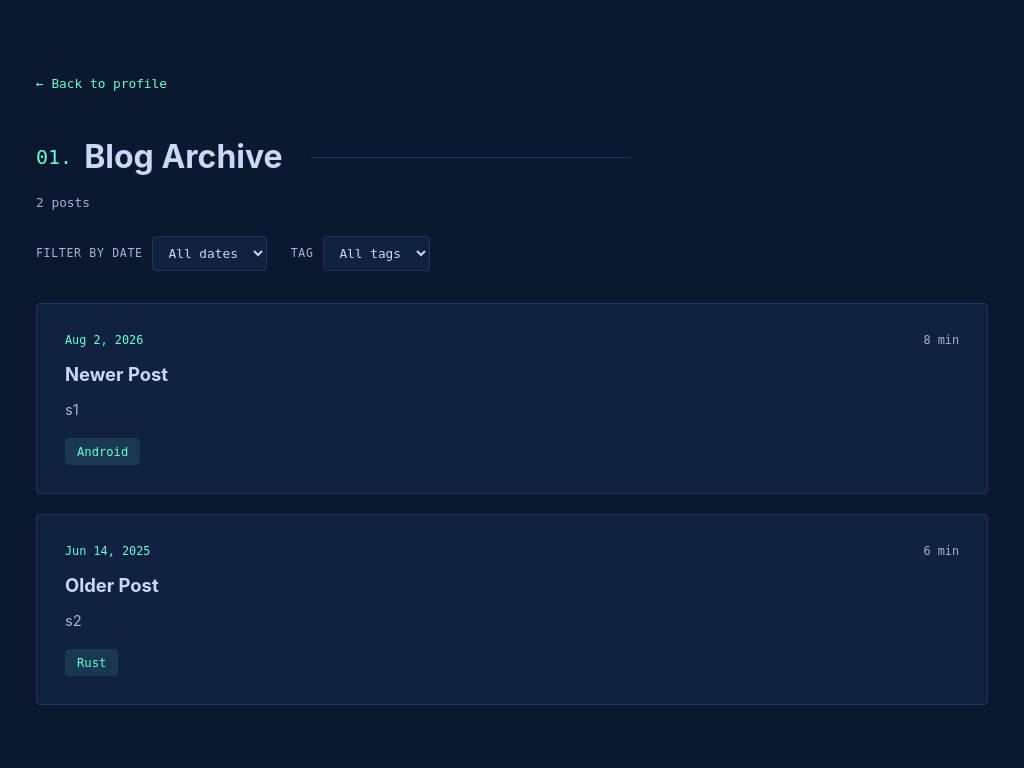
Test: Blogs reader view › opens a post, lazy-fetches its html and renders it
What coordinates should you click on to do the following:
click the heading "Newer Post"
I would click on:
 (116, 374)
Its box is [65,363,168,385].
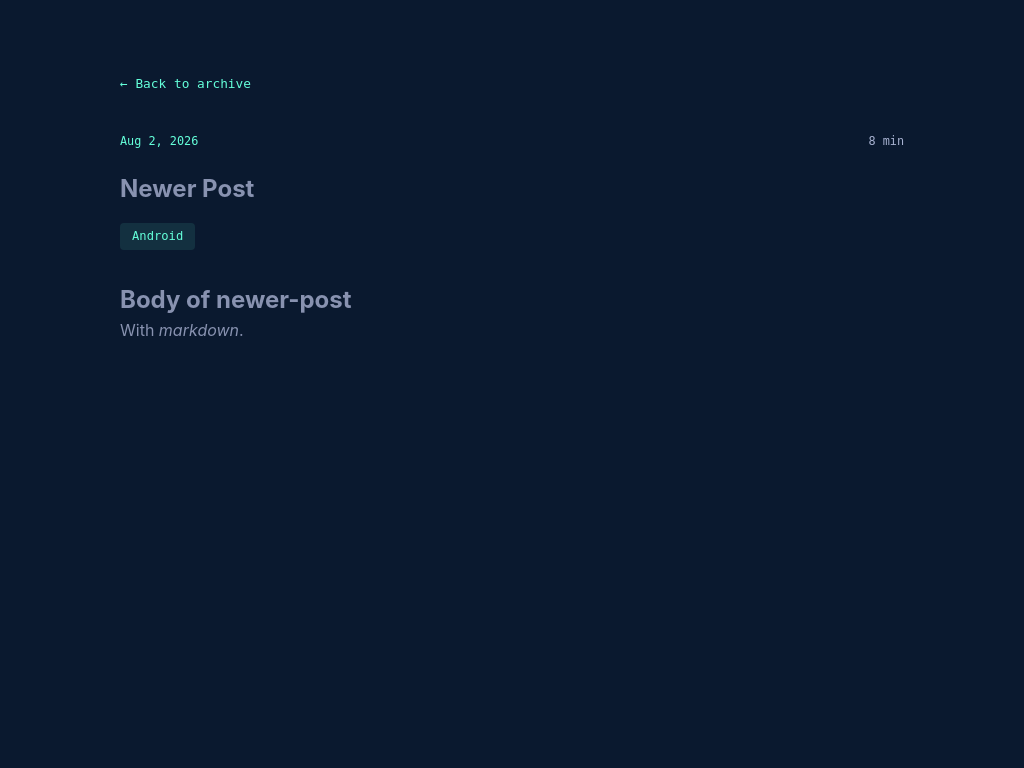
Expected: the link "← Back to archive" is shown, [120,74,251,93]
Expected: the element showing "Body of newer-post With markdown." is shown, [120,285,352,340]
Expected: the heading "Body of newer-post" is shown, [120,285,352,314]
